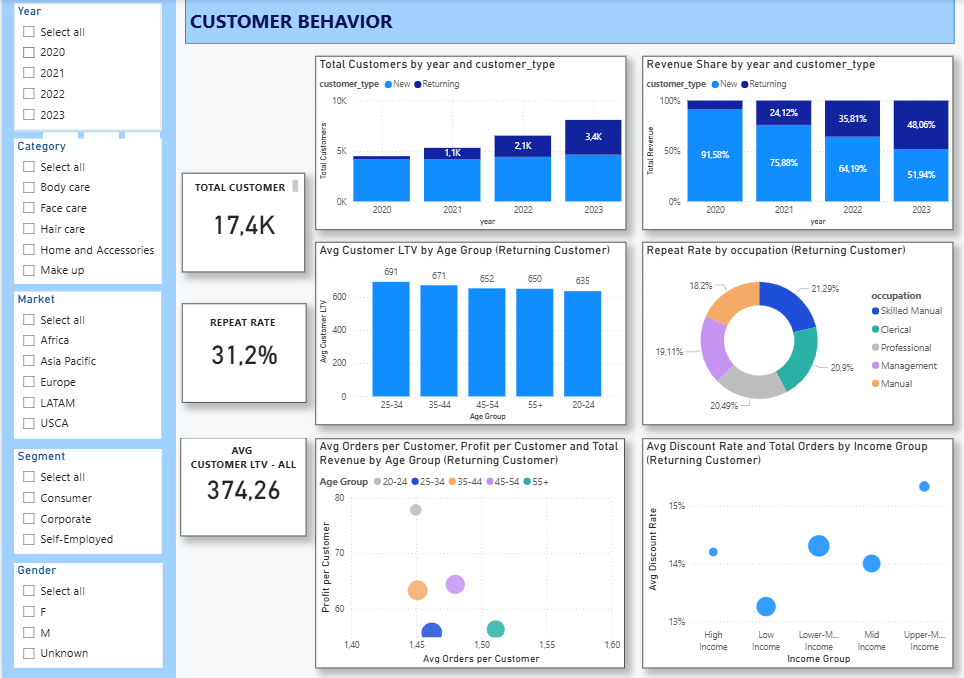

The page's visual inventory and layout, read from the dashboard file:
{"tool":"powerbi","page":{"name":"Customer behavior","canvas":[1350,950],"ordinal":6},"visuals":[{"type":"shape","box":[0,0,243.5,950.7],"z":0},{"type":"shape","box":[256,0,1076.6,63],"z":1000},{"type":"slicer","title":"Gender","fields":{"Values":["dim_customer.gender_cleaned"]},"box":[16.8,789.1,207.8,146.9],"z":2000},{"type":"hundredPercentStackedColumnChart","title":"Revenue Share by year and customer_type","fields":{"Y":["sales.Total Revenue"],"Category":["date.year"],"Series":["sales.customer_type"]},"box":[896.2,79.8,434.4,243.5],"z":3000},{"type":"slicer","title":"Year","fields":{"Values":["date.year"]},"box":[15.9,7.1,206.8,176.7],"z":4000},{"type":"slicer","title":"Category","fields":{"Values":["dim_product.category"]},"box":[15.9,195,206.8,203.2],"z":5000},{"type":"slicer","title":"Market","fields":{"Values":["dim_region.market"]},"box":[16.8,409.3,205.7,205.7],"z":6000},{"type":"slicer","title":"Segment","fields":{"Values":["sales.segment"]},"box":[15.9,629,206.8,146.7],"z":7000},{"type":"textbox","box":[258.1,6.3,1007.4,73.5],"z":8000},{"type":"card","fields":{"Values":["sales.Total Customers"]},"box":[251.8,243.5,172.1,138.5],"z":9000},{"type":"card","fields":{"Values":["sales.Repeat Rate"]},"box":[251.8,426,174.2,138.5],"z":10000},{"type":"card","fields":{"Values":["sales.Avg Customer LTV"]},"box":[249.7,614.9,176.3,136.4],"z":11000},{"type":"columnChart","fields":{"Y":["sales.Total Customers"],"Category":["date.year"],"Series":["sales.customer_type"]},"box":[438.6,79.8,434.4,243.5],"z":12000},{"type":"clusteredColumnChart","title":"Avg Customer LTV by Age Group (Returning Customer)","fields":{"Category":["sales.Age Group"],"Y":["sales.Avg Customer LTV"]},"box":[438.6,340,434.4,256],"z":13000},{"type":"donutChart","title":"Repeat Rate by occupation (Returning Customer)","fields":{"Category":["dim_customer.occupation"],"Y":["sales.Repeat Rate"]},"box":[896.2,340,434.4,256],"z":14000},{"type":"scatterChart","title":"Avg Orders per Customer, Profit per Customer and Total Revenue by Age Group (Returning Customer)","fields":{"X":["sales.Avg Orders per Customer"],"Size":["sales.Total Revenue"],"Series":["sales.Age Group"],"Y":["sales.Profit per Customer"]},"box":[438.6,614.9,432.3,321.1],"z":15000},{"type":"scatterChart","title":"Avg Discount Rate and Total Orders by Income Group (Returning Customer)","fields":{"X":["dim_customer.Income Group"],"Y":["sales.Avg Discount Rate"],"Size":["sales.Total Orders"]},"box":[896.2,614.9,434.4,321.1],"z":16000},{"type":"textbox","box":[264.4,247,155.3,27.3],"z":17000},{"type":"textbox","box":[262.3,436.5,149,31.5],"z":18000},{"type":"textbox","box":[251.8,614.9,172.1,54.6],"z":19000}]}

Visuals, with their boxes in screenshot pixels (x1, y1, x2, y2), scaled from the page's 1350x950 canvas onto the 964x678 screenshot:
shape: [0,0,174,677]
shape: [183,0,952,45]
"Gender" slicer: [12,563,160,668]
"Revenue Share by year and customer_type" hundredPercentStackedColumnChart: [640,57,950,231]
"Year" slicer: [11,5,159,131]
"Category" slicer: [11,139,159,284]
"Market" slicer: [12,292,159,439]
"Segment" slicer: [11,449,159,554]
textbox: [184,4,904,57]
card - sales.Total Customers: [180,174,303,273]
card - sales.Repeat Rate: [180,304,304,403]
card - sales.Avg Customer LTV: [178,439,304,536]
columnChart - sales.Total Customers x date.year: [313,57,623,231]
"Avg Customer LTV by Age Group (Returning Customer)" clusteredColumnChart: [313,243,623,425]
"Repeat Rate by occupation (Returning Customer)" donutChart: [640,243,950,425]
"Avg Orders per Customer, Profit per Customer and Total Revenue by Age Group (Returning Customer)" scatterChart: [313,439,622,668]
"Avg Discount Rate and Total Orders by Income Group (Returning Customer)" scatterChart: [640,439,950,668]
textbox: [189,176,300,196]
textbox: [187,312,294,334]
textbox: [180,439,303,478]
